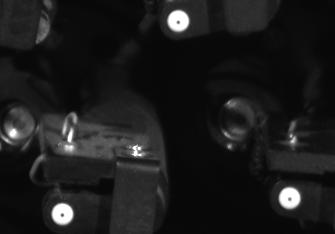fiber: (48, 199, 79, 228), (163, 6, 193, 35), (276, 185, 304, 213)
